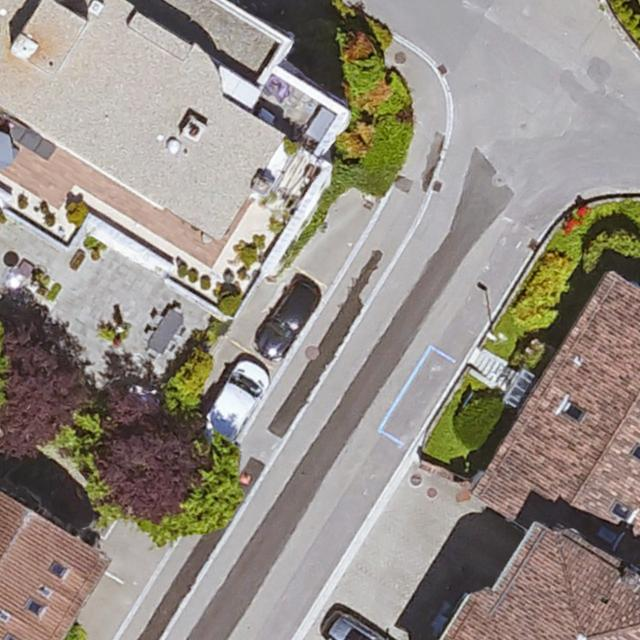tree: (0, 313, 94, 457), (101, 417, 195, 521), (196, 437, 244, 532)
